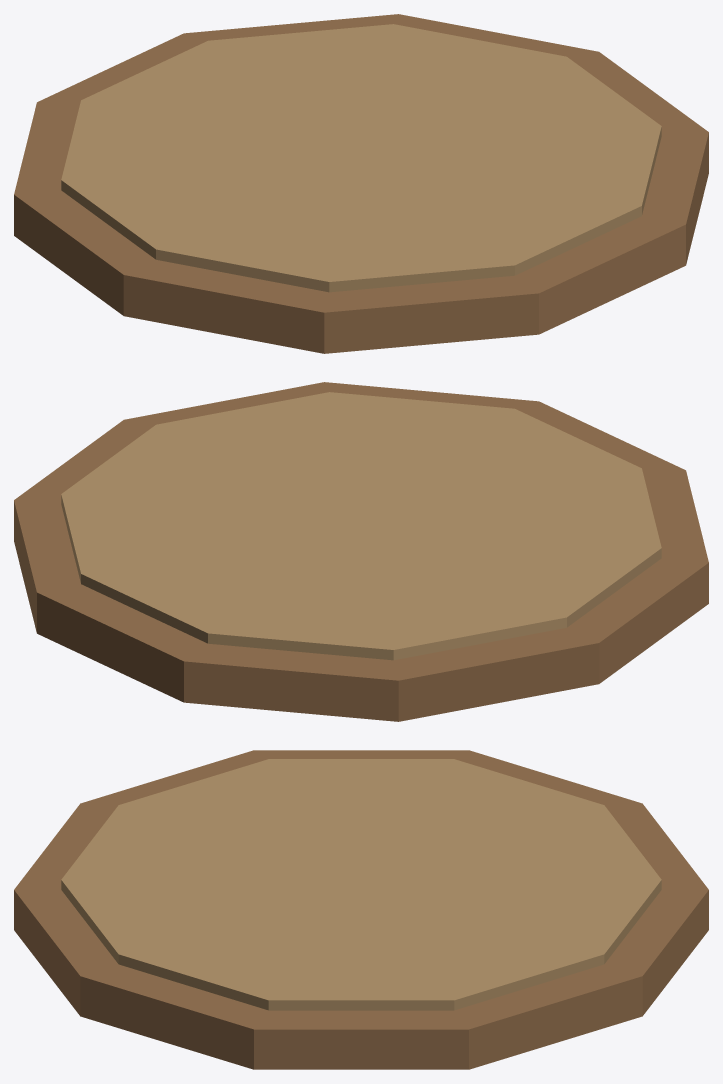
File: desert-station.glb
3 views of the same model, one above another, from view 1: azimuth 30°, elevation 25°; view 2: azimuth 150°, elevation 25°; view 3: azimuth 270°, elevation 25° (orthographic). The views are drawn at different scales.
Visible parts, largest first — view 1: desert-station; view 2: desert-station; view 3: desert-station.
Part boxes in pixels (x1,y1,x2,y2): desert-station: [14, 14, 708, 353]; desert-station: [14, 382, 708, 721]; desert-station: [14, 750, 708, 1069].
Size of the model in its own units: 2.38 by 0.2 by 2.5.
